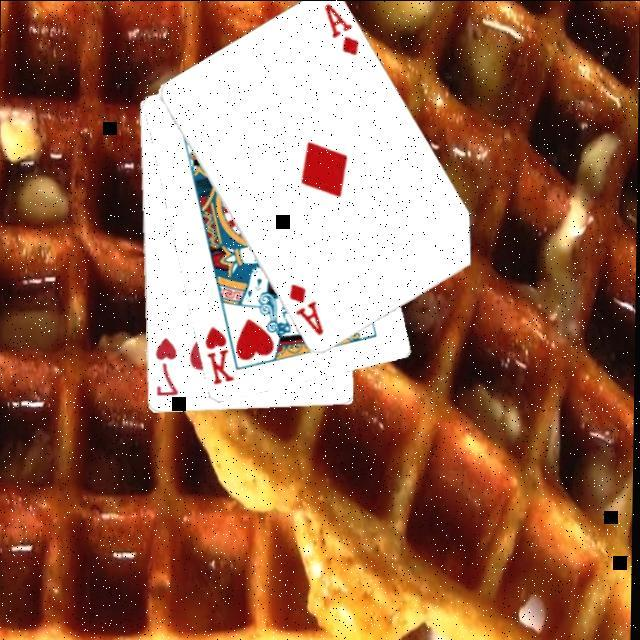7H: (154, 333, 184, 397)
AD: (286, 279, 330, 337), (321, 0, 363, 57)
KH: (202, 322, 240, 386)
